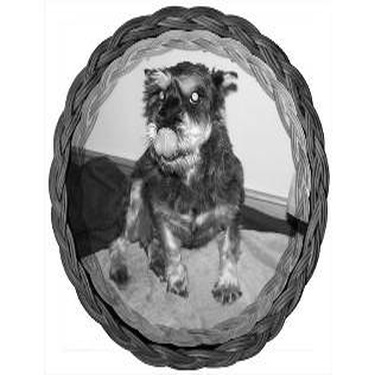dog: (104, 52, 249, 306)
